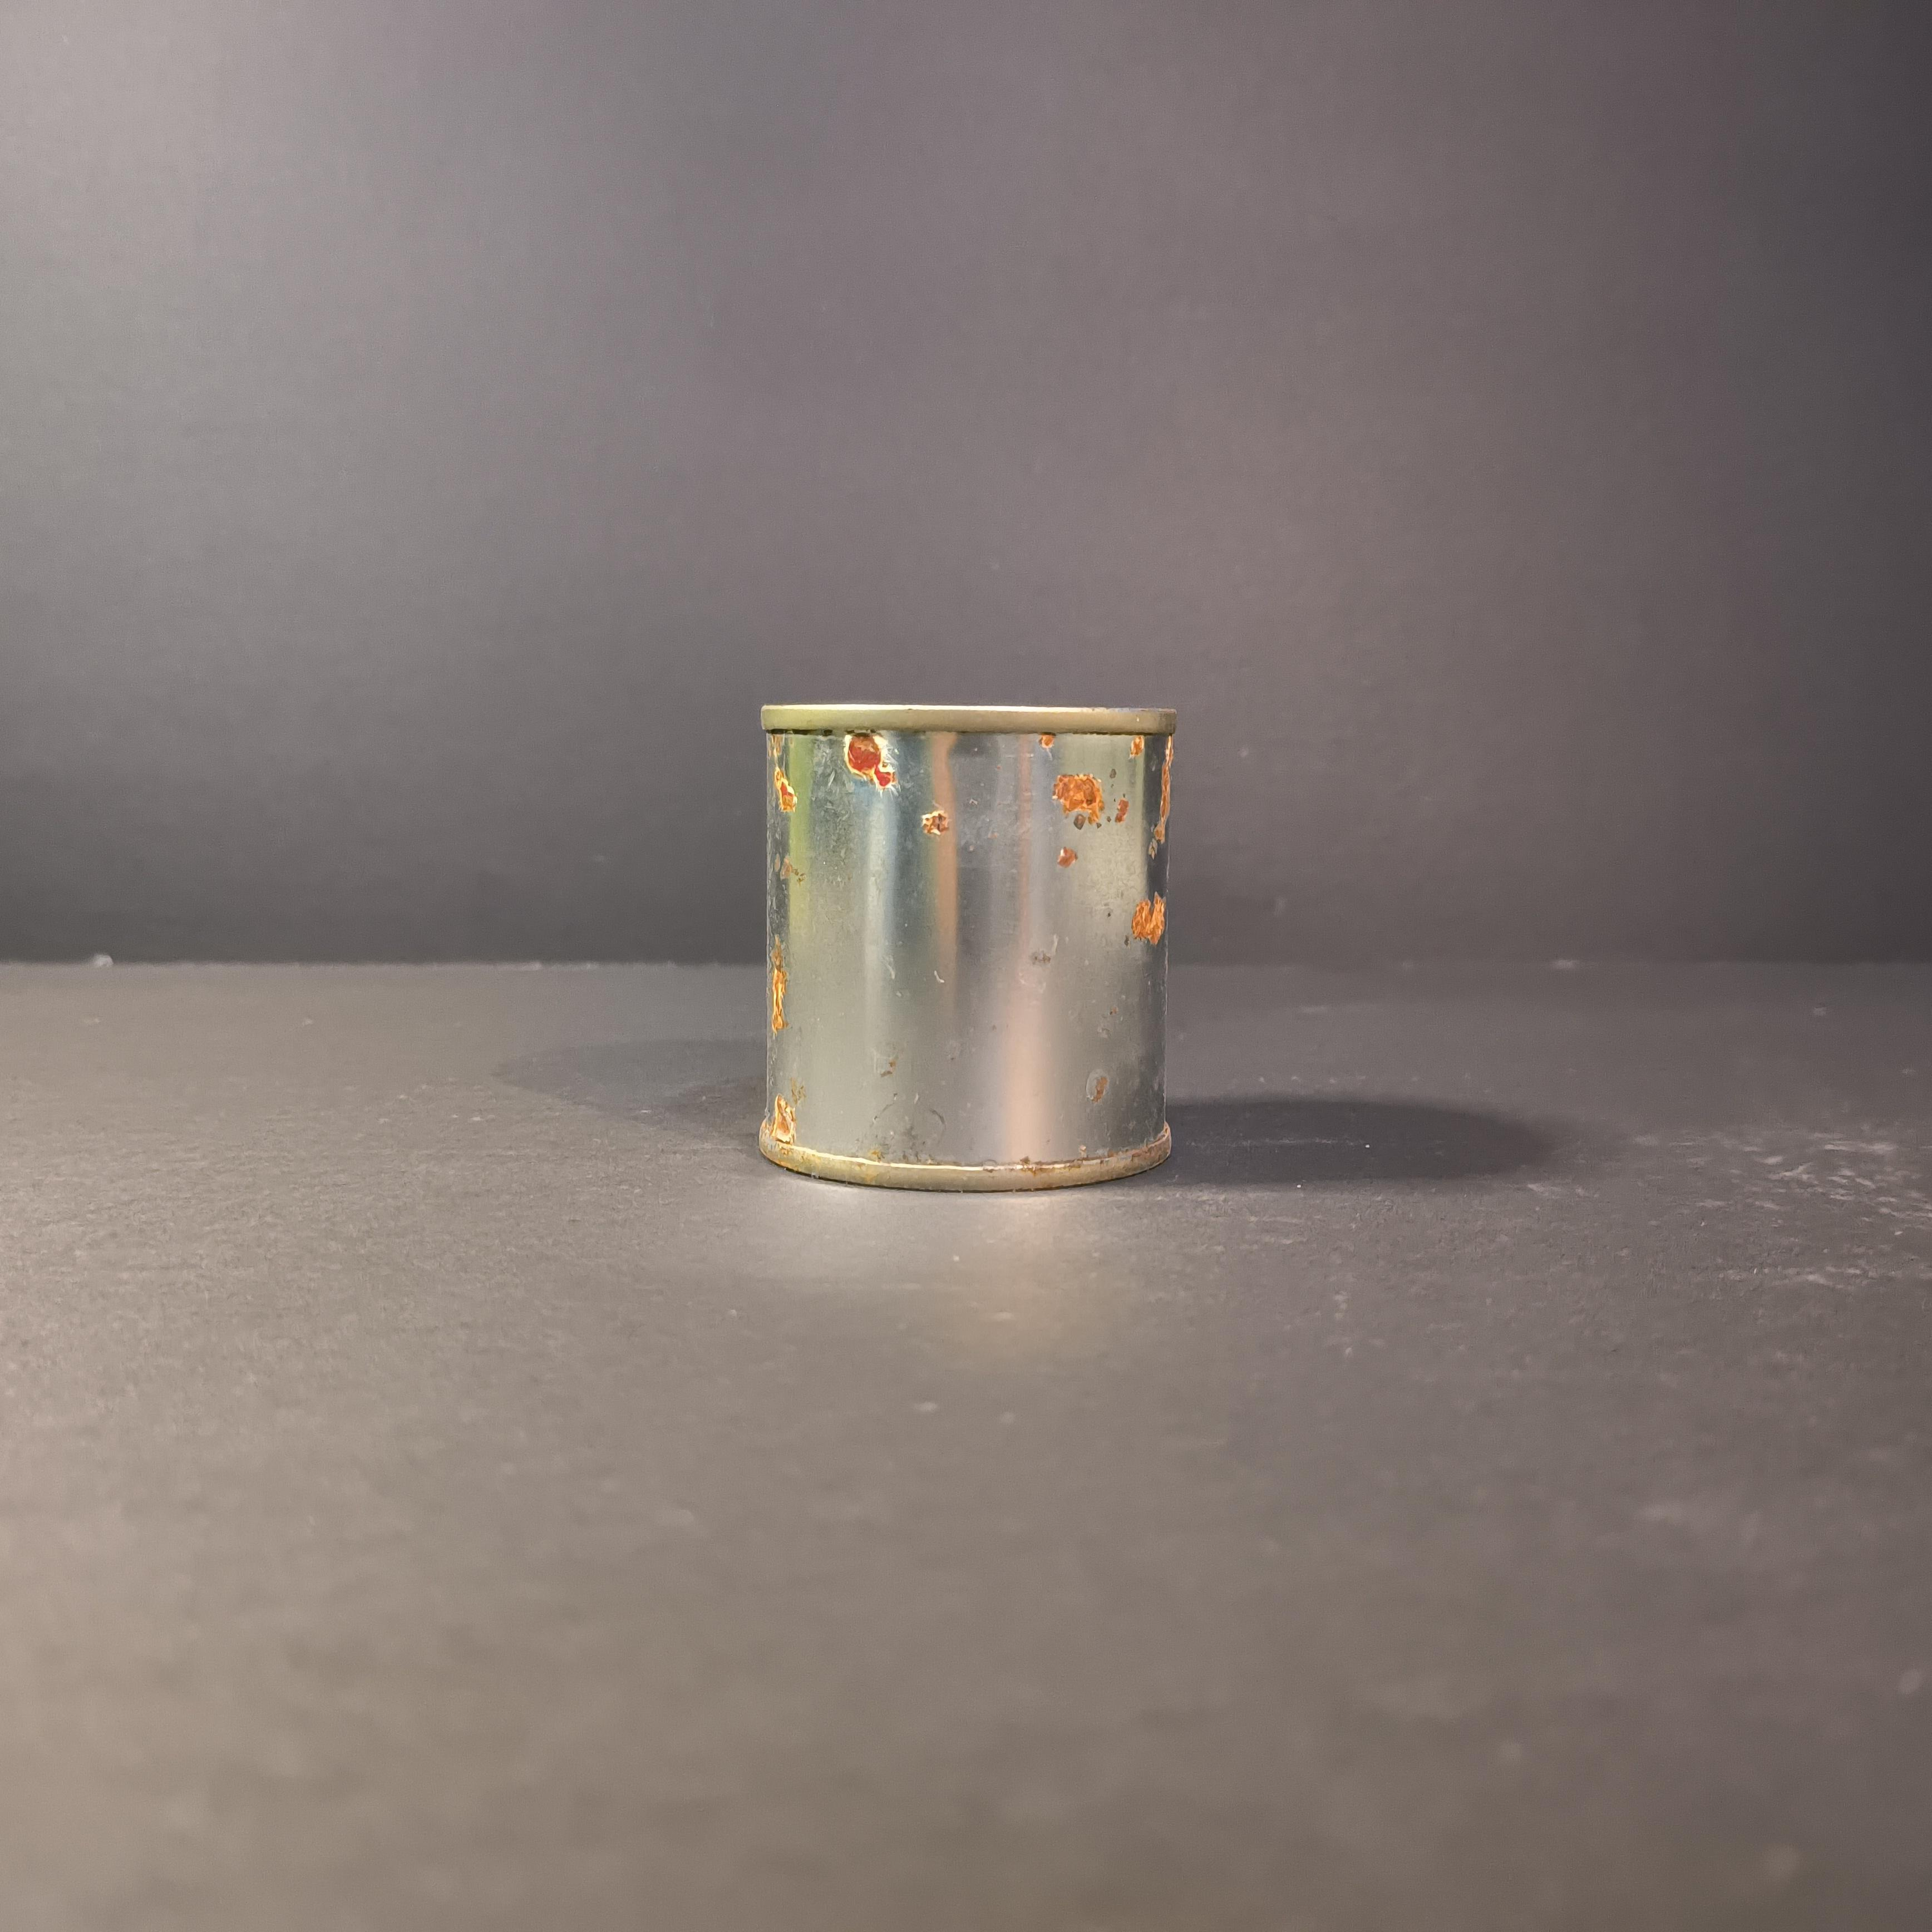Rusted: (754, 676, 1194, 1210)
